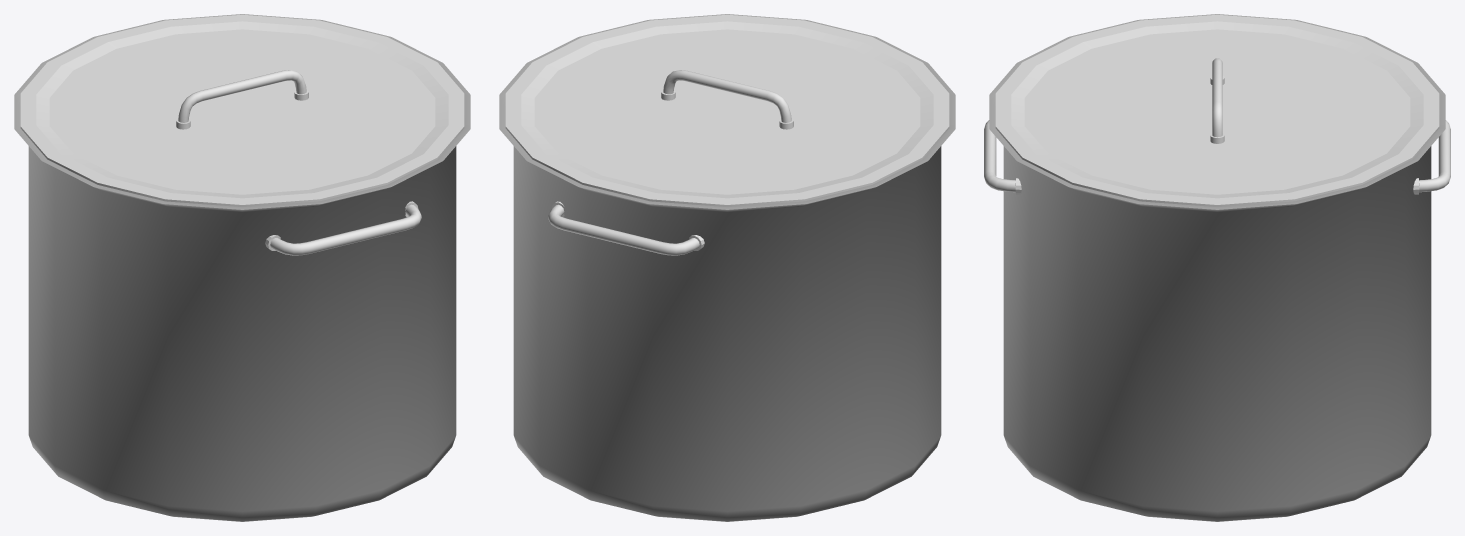
The model's file is KitchenLargeKettle.fbx.
3 renders of one model, left to right at view 1: azimuth 30°, elevation 25°; view 2: azimuth 150°, elevation 25°; view 3: azimuth 270°, elevation 25°, orthographic.
Visible parts, largest first — view 1: polySurface53; view 2: polySurface53; view 3: polySurface53.
Part boxes in pixels (box(x1,y1,x2,y2)): polySurface53: box(14, 14, 470, 521); polySurface53: box(499, 14, 955, 521); polySurface53: box(984, 14, 1450, 521).
Size of the model in its own units: 42.52 by 35.94 by 42.82.
